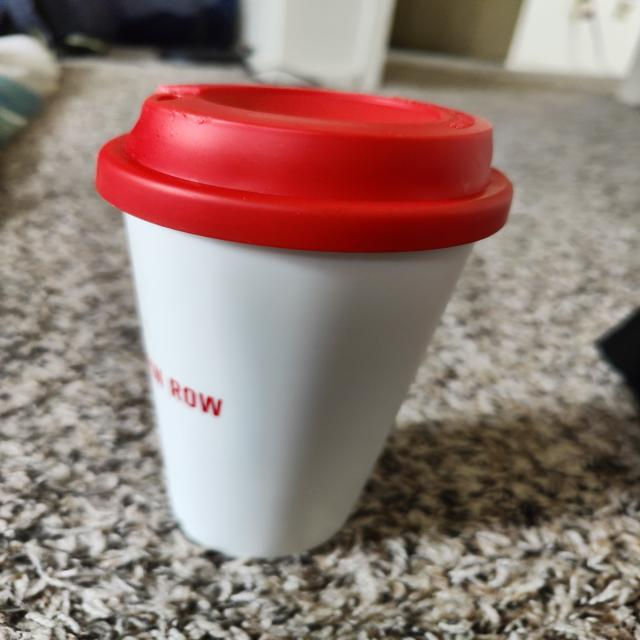mug: (100, 80, 512, 565)
